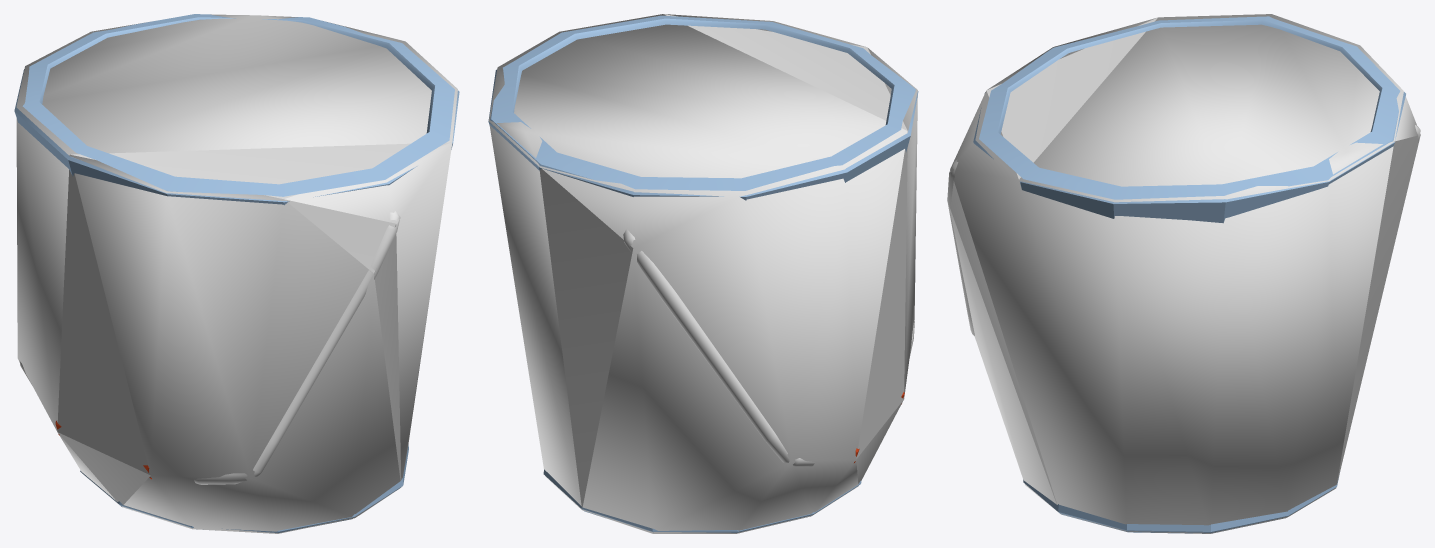
Rendered from bucket.fbx.
The picture shows the model from 3 angles, left to right: view 1: azimuth 30°, elevation 25°; view 2: azimuth 150°, elevation 25°; view 3: azimuth 270°, elevation 25°; orthographic projection. The views are drawn at different scales.
Visible parts, largest first — view 1: c_bucket, bucket; view 2: c_bucket, bucket; view 3: c_bucket, bucket.
Part boxes in pixels (left/top/right/bottom): c_bucket: left=16, top=14, right=457, bottom=533; bucket: left=14, top=14, right=459, bottom=533; c_bucket: left=489, top=14, right=917, bottom=533; bucket: left=488, top=15, right=918, bottom=532; c_bucket: left=947, top=14, right=1420, bottom=533; bucket: left=947, top=16, right=1420, bottom=533.
Bounding box in the file's own units: 32.52 × 31.29 × 36.07.
